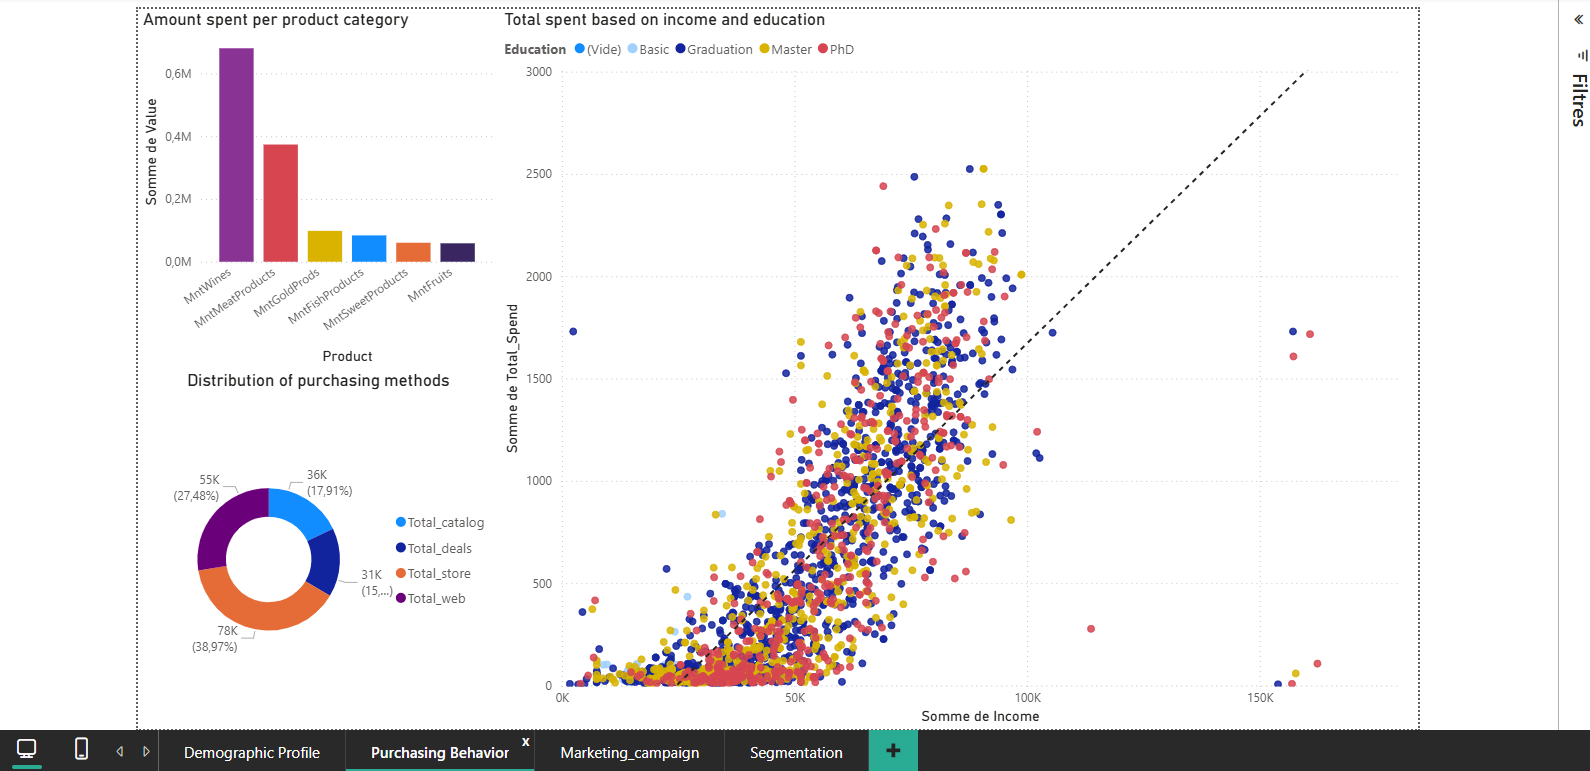

The dashboard page shown, as its layout file describes it:
{"tool":"powerbi","page":{"name":"Purchasing Behavior","canvas":[1280,720],"ordinal":1},"visuals":[{"type":"clusteredColumnChart","title":"Amount spent per product category","fields":{"Category":["customers_clean.Product"],"Y":["Sum(customers_clean.Value)"]},"box":[0,0,360.7,360.7],"z":0},{"type":"donutChart","title":"Distribution of purchasing methods","fields":{"Y":["customers_clean.Total_catalog","customers_clean.Total_deals","customers_clean.Total_store","customers_clean.Total_web"]},"box":[0,360.7,360.7,359.5],"z":1000},{"type":"scatterChart","title":"Total spent based on income and education","fields":{"Category":["fact_cutomer_behavior.ID"],"X":["Sum(dim_customer.Income)"],"Y":["Sum(fact_cutomer_behavior.Total_Spend)"],"Series":["dim_customer.Education"]},"box":[360.7,0,919.3,720.3],"z":2000}]}

Visuals, with their boxes on the page's 1280x720 design canvas (x1, y1, x2, y2). These are canvas units, not pixel positions in the 1590x771 screenshot, which may show the page scaled, cropped or inside an application window:
"Amount spent per product category" clusteredColumnChart: box=[0, 0, 361, 361]
"Distribution of purchasing methods" donutChart: box=[0, 361, 361, 720]
"Total spent based on income and education" scatterChart: box=[361, 0, 1280, 720]
